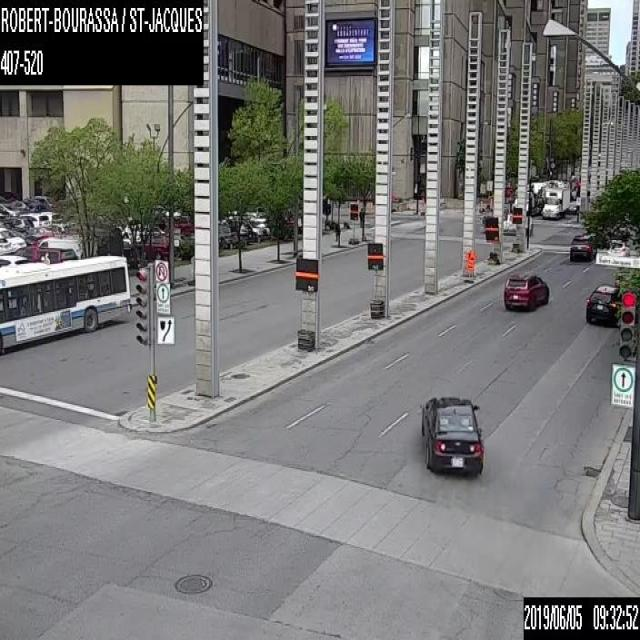bus: (0, 252, 132, 355)
construction: (464, 248, 474, 279)
pedestrian: (333, 222, 338, 242), (358, 207, 363, 225)
vehicle: (420, 395, 483, 473), (502, 272, 550, 311), (510, 181, 558, 215), (584, 281, 620, 324), (34, 236, 84, 257), (542, 184, 570, 219), (133, 236, 168, 258), (569, 234, 597, 261), (502, 212, 532, 235), (0, 227, 25, 249), (230, 221, 253, 244), (18, 212, 49, 227), (609, 238, 629, 259), (248, 220, 269, 240), (217, 225, 236, 247), (2, 214, 28, 230), (10, 228, 36, 244), (0, 203, 18, 216), (11, 200, 31, 210), (0, 236, 9, 252), (567, 200, 578, 212)
